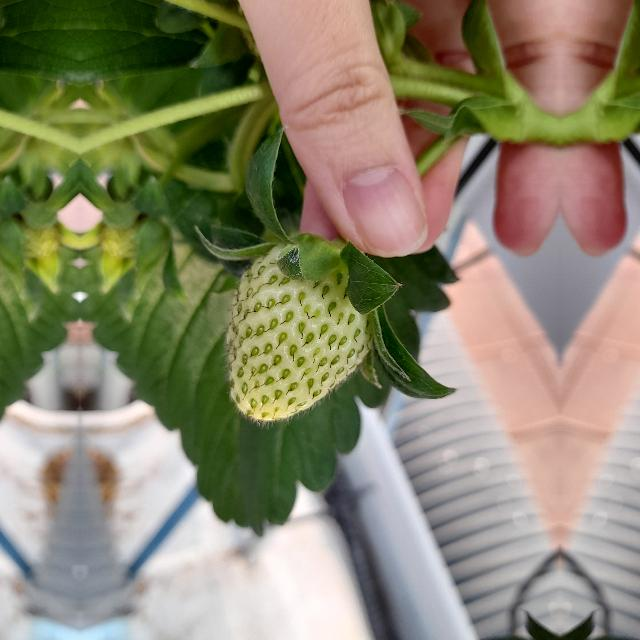Health_25: (224, 240, 376, 420)
